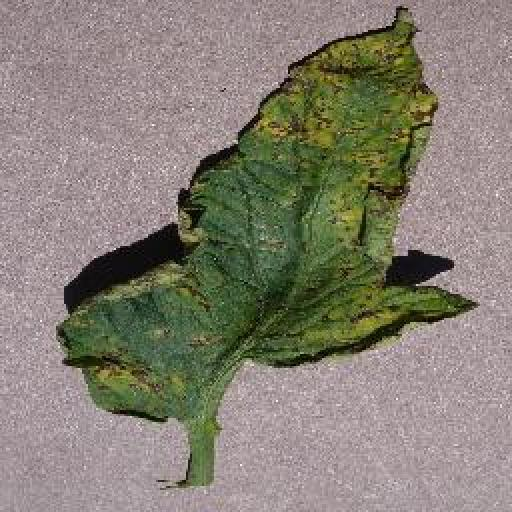Septoria: (60, 5, 478, 420)
